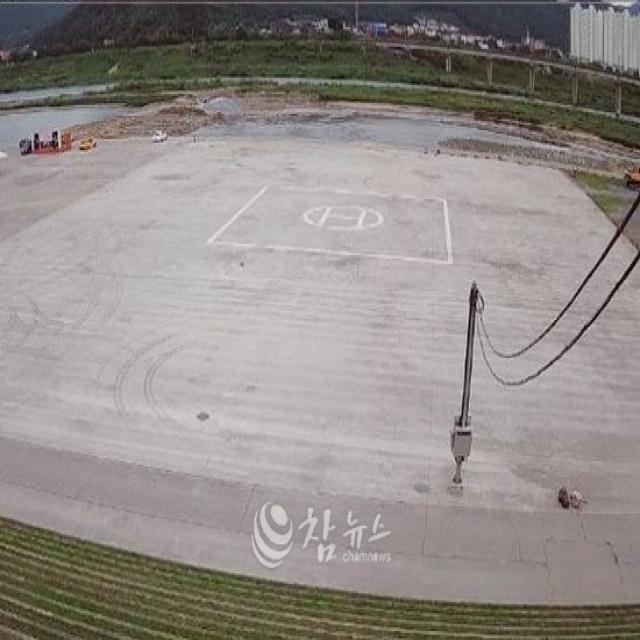helipad: (297, 195, 384, 235)
